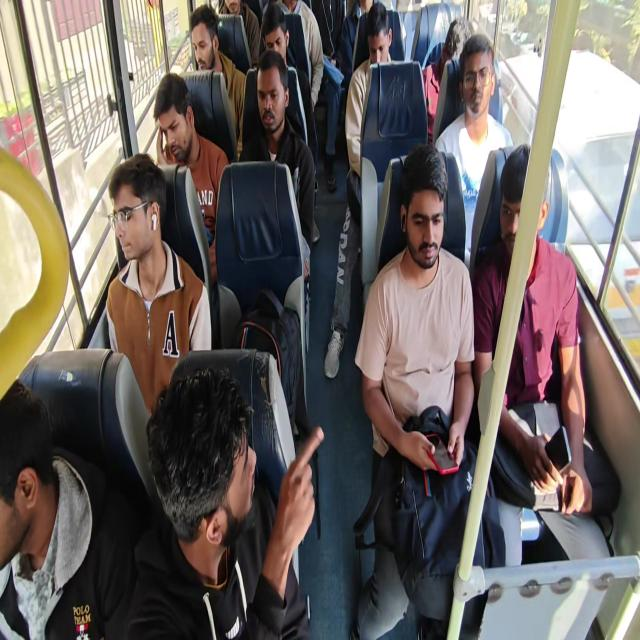person: (353, 143, 505, 638), (472, 142, 620, 564), (125, 363, 323, 639), (0, 378, 135, 638), (104, 152, 212, 416), (324, 2, 394, 379), (239, 49, 315, 352), (434, 33, 514, 269), (153, 72, 230, 284), (258, 2, 318, 183), (189, 4, 246, 158), (308, 0, 345, 192), (423, 17, 474, 140), (274, 0, 324, 112), (339, 0, 373, 96), (214, 0, 260, 69)
